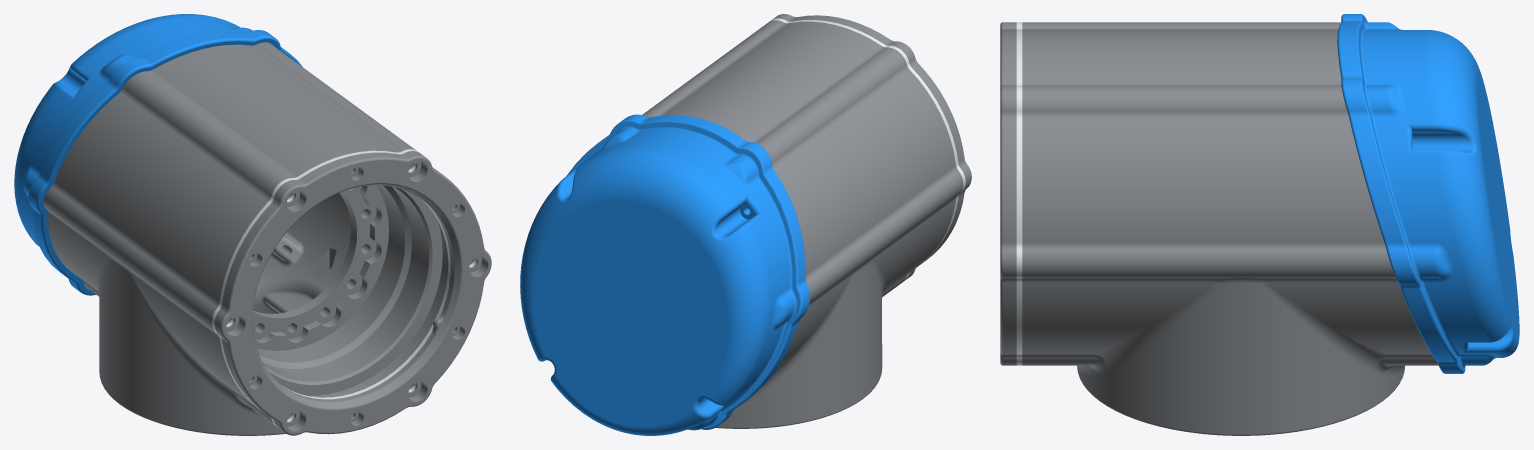
Rendered from revolute_l_visual.glb.
3 views of the same model, side by side, from view 1: azimuth 30°, elevation 25°; view 2: azimuth 150°, elevation 25°; view 3: azimuth 270°, elevation 25° (orthographic). The views are drawn at different scales.
Parts seen in each view (by area): view 1: revolute_l_visual.001; view 2: revolute_l_visual.001; view 3: revolute_l_visual.001.
Part boxes in pixels (left/top/right/bottom): revolute_l_visual.001: left=14, top=14, right=491, bottom=435; revolute_l_visual.001: left=520, top=14, right=971, bottom=435; revolute_l_visual.001: left=1000, top=14, right=1519, bottom=435.
Size of the model in its own units: 0.132 by 0.133 by 0.1898.
